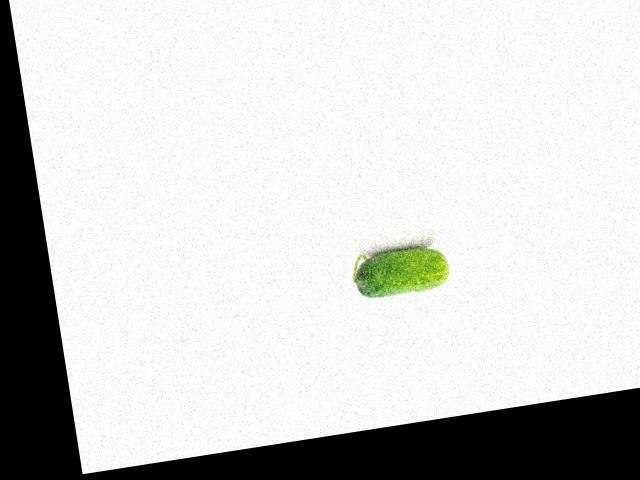cucumber: (350, 240, 453, 300)
